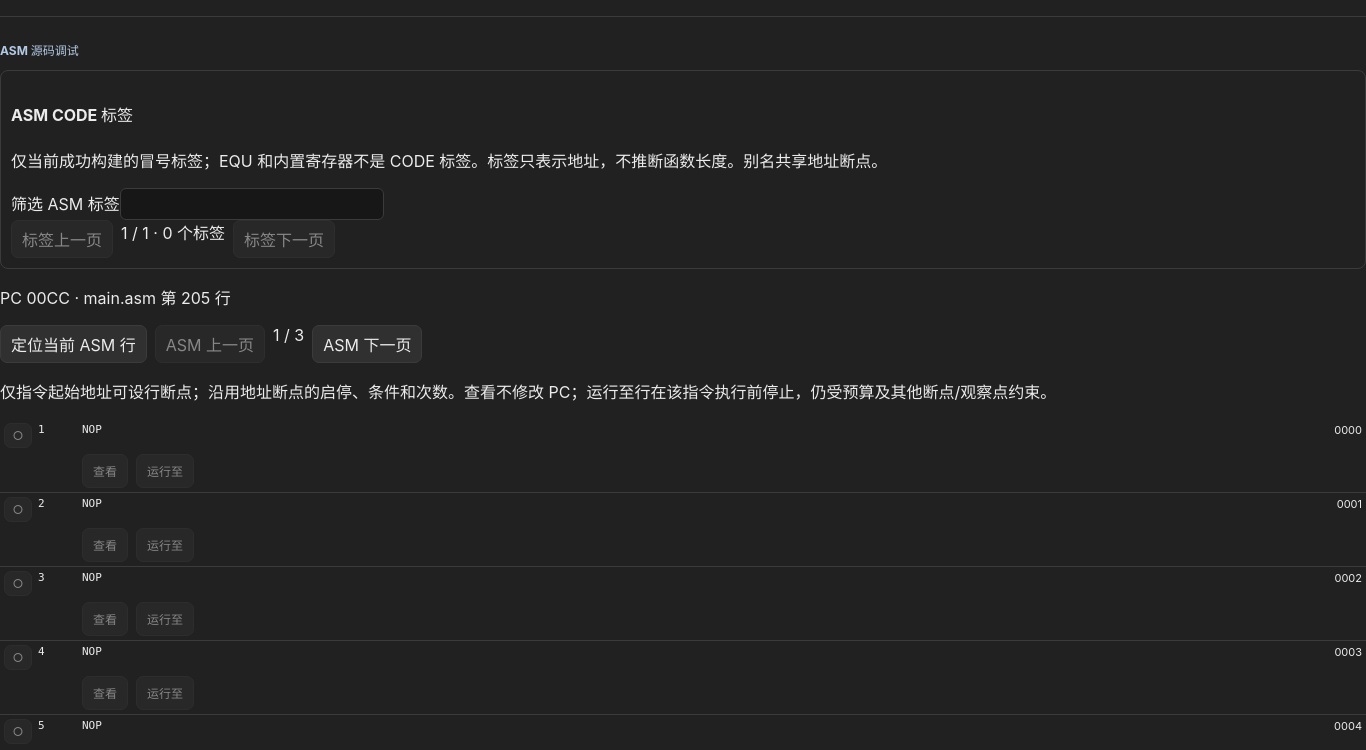
Test case: bounds rendering and locates PC on another page while locking mutations during execution
Expected: the text with test id "asm-source-page" reads "1 / 3", [273,324,304,344]
Click the button "定位当前 ASM 行" at (73,344), box [0,324,147,362]
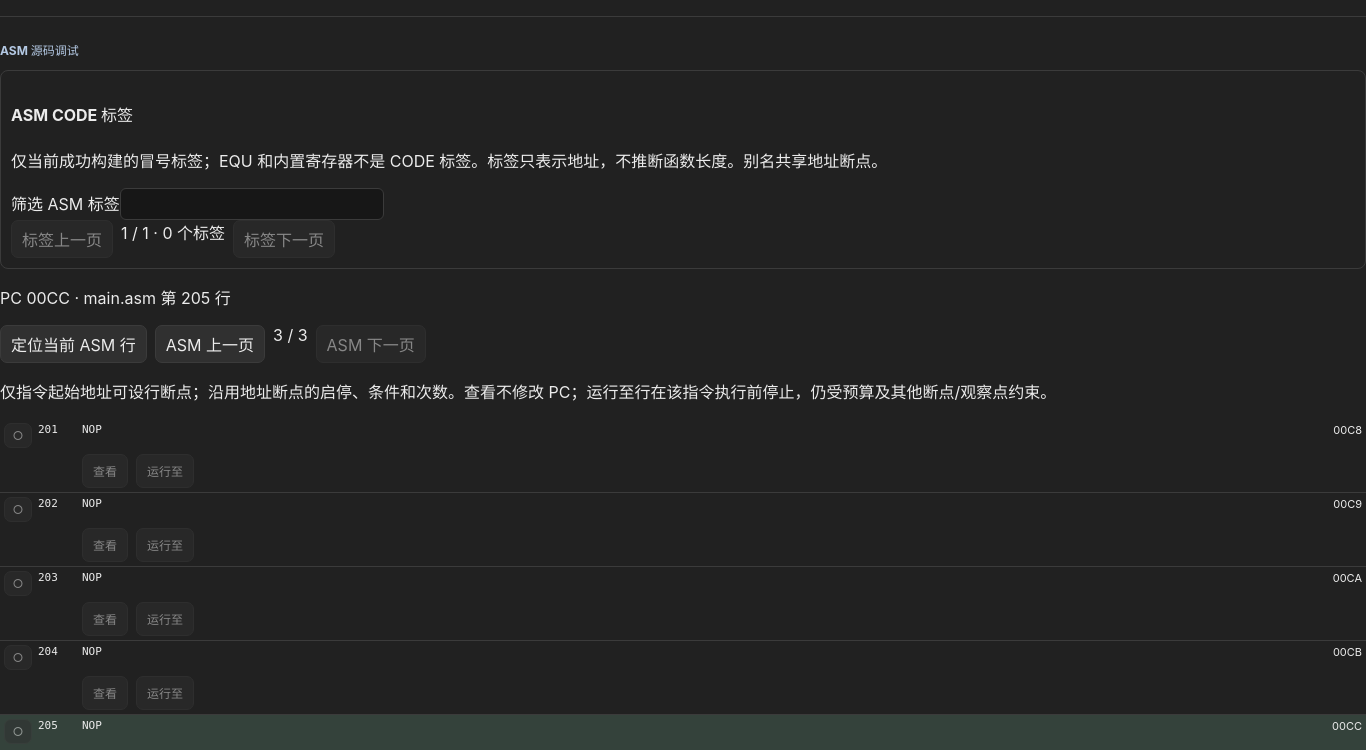
Expected: the button named "切换 ASM 第 205 行断点" is disabled, [4,718,32,744]
Now the text with test id "asm-source-page" reads "3 / 3", box [273,324,308,344]
Click the button "ASM 上一页" at (210,344), box [155,324,265,362]
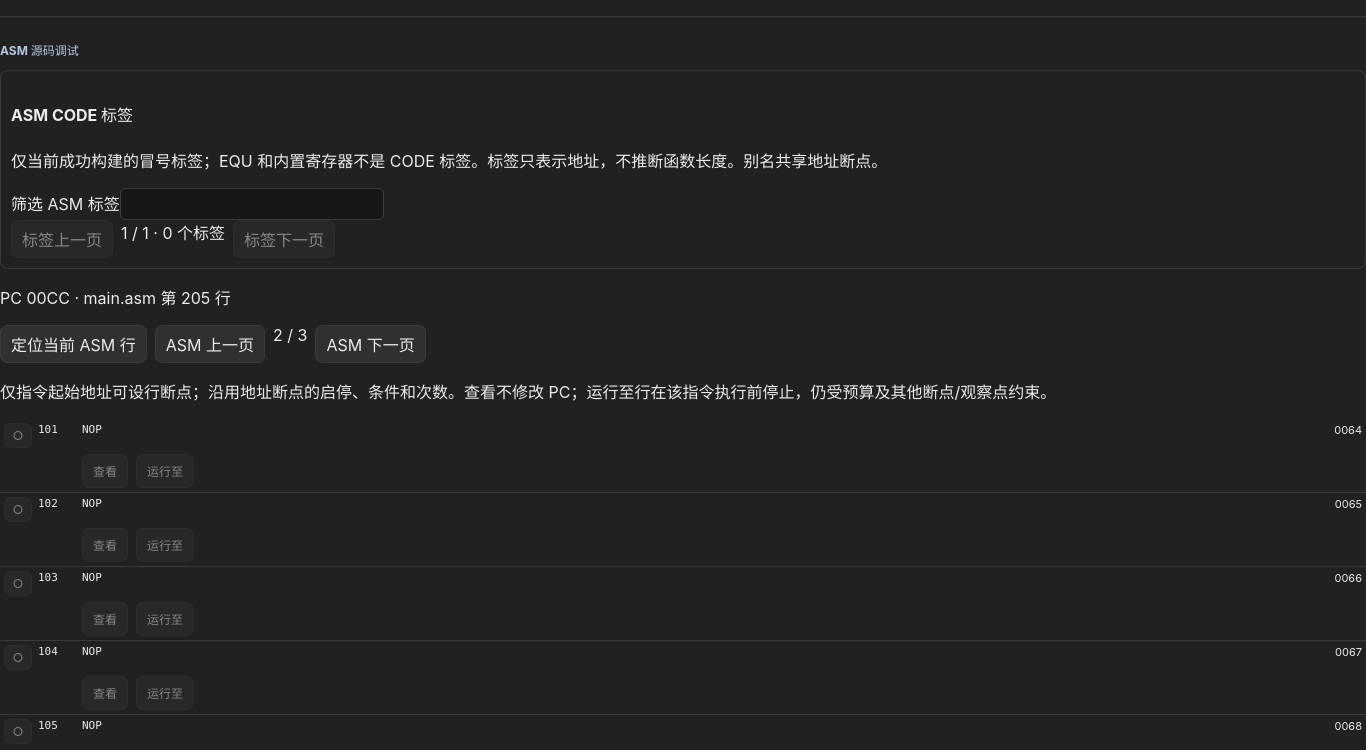
Now the text with test id "asm-source-page" reads "2 / 3", box [273,324,307,344]
